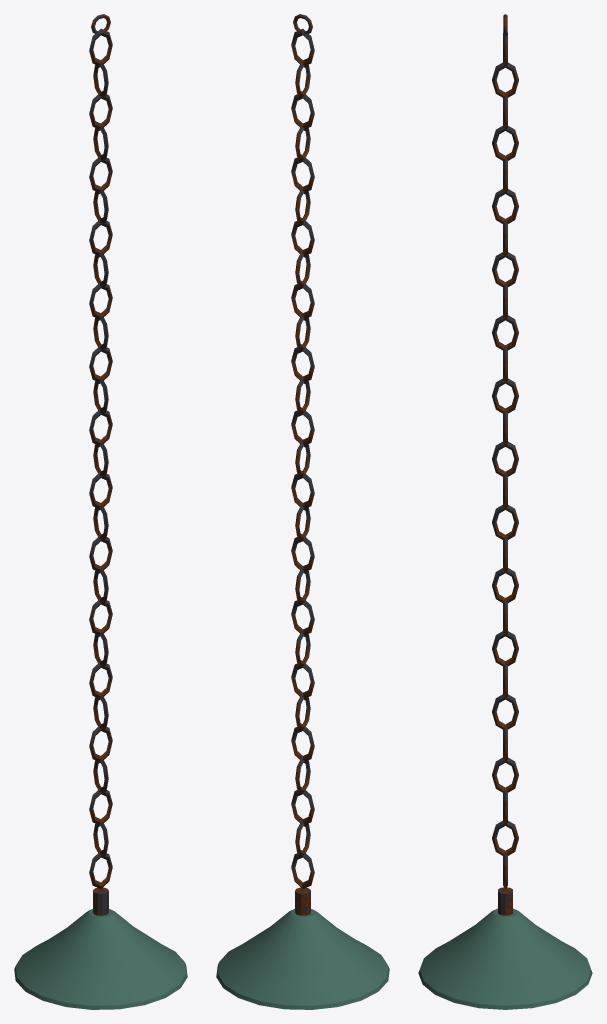
Rendered from Lamp.glb.
3 views of the same model, side by side, from view 1: azimuth 30°, elevation 25°; view 2: azimuth 150°, elevation 25°; view 3: azimuth 270°, elevation 25° (orthographic).
Parts seen in each view (by area): view 1: Lamp; view 2: Lamp; view 3: Lamp.
Boxes of the visible parts, x1,y1,x2,y2 form: Lamp: (14,14,187,1009); Lamp: (216,14,389,1009); Lamp: (418,14,592,1009).
Bounding box in the file's own units: 0.65 × 3.94 × 0.65.
Materials: 4 (1 with a texture image).
